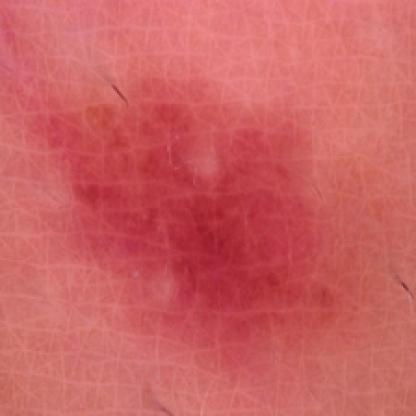benign: (78, 100, 353, 308)
